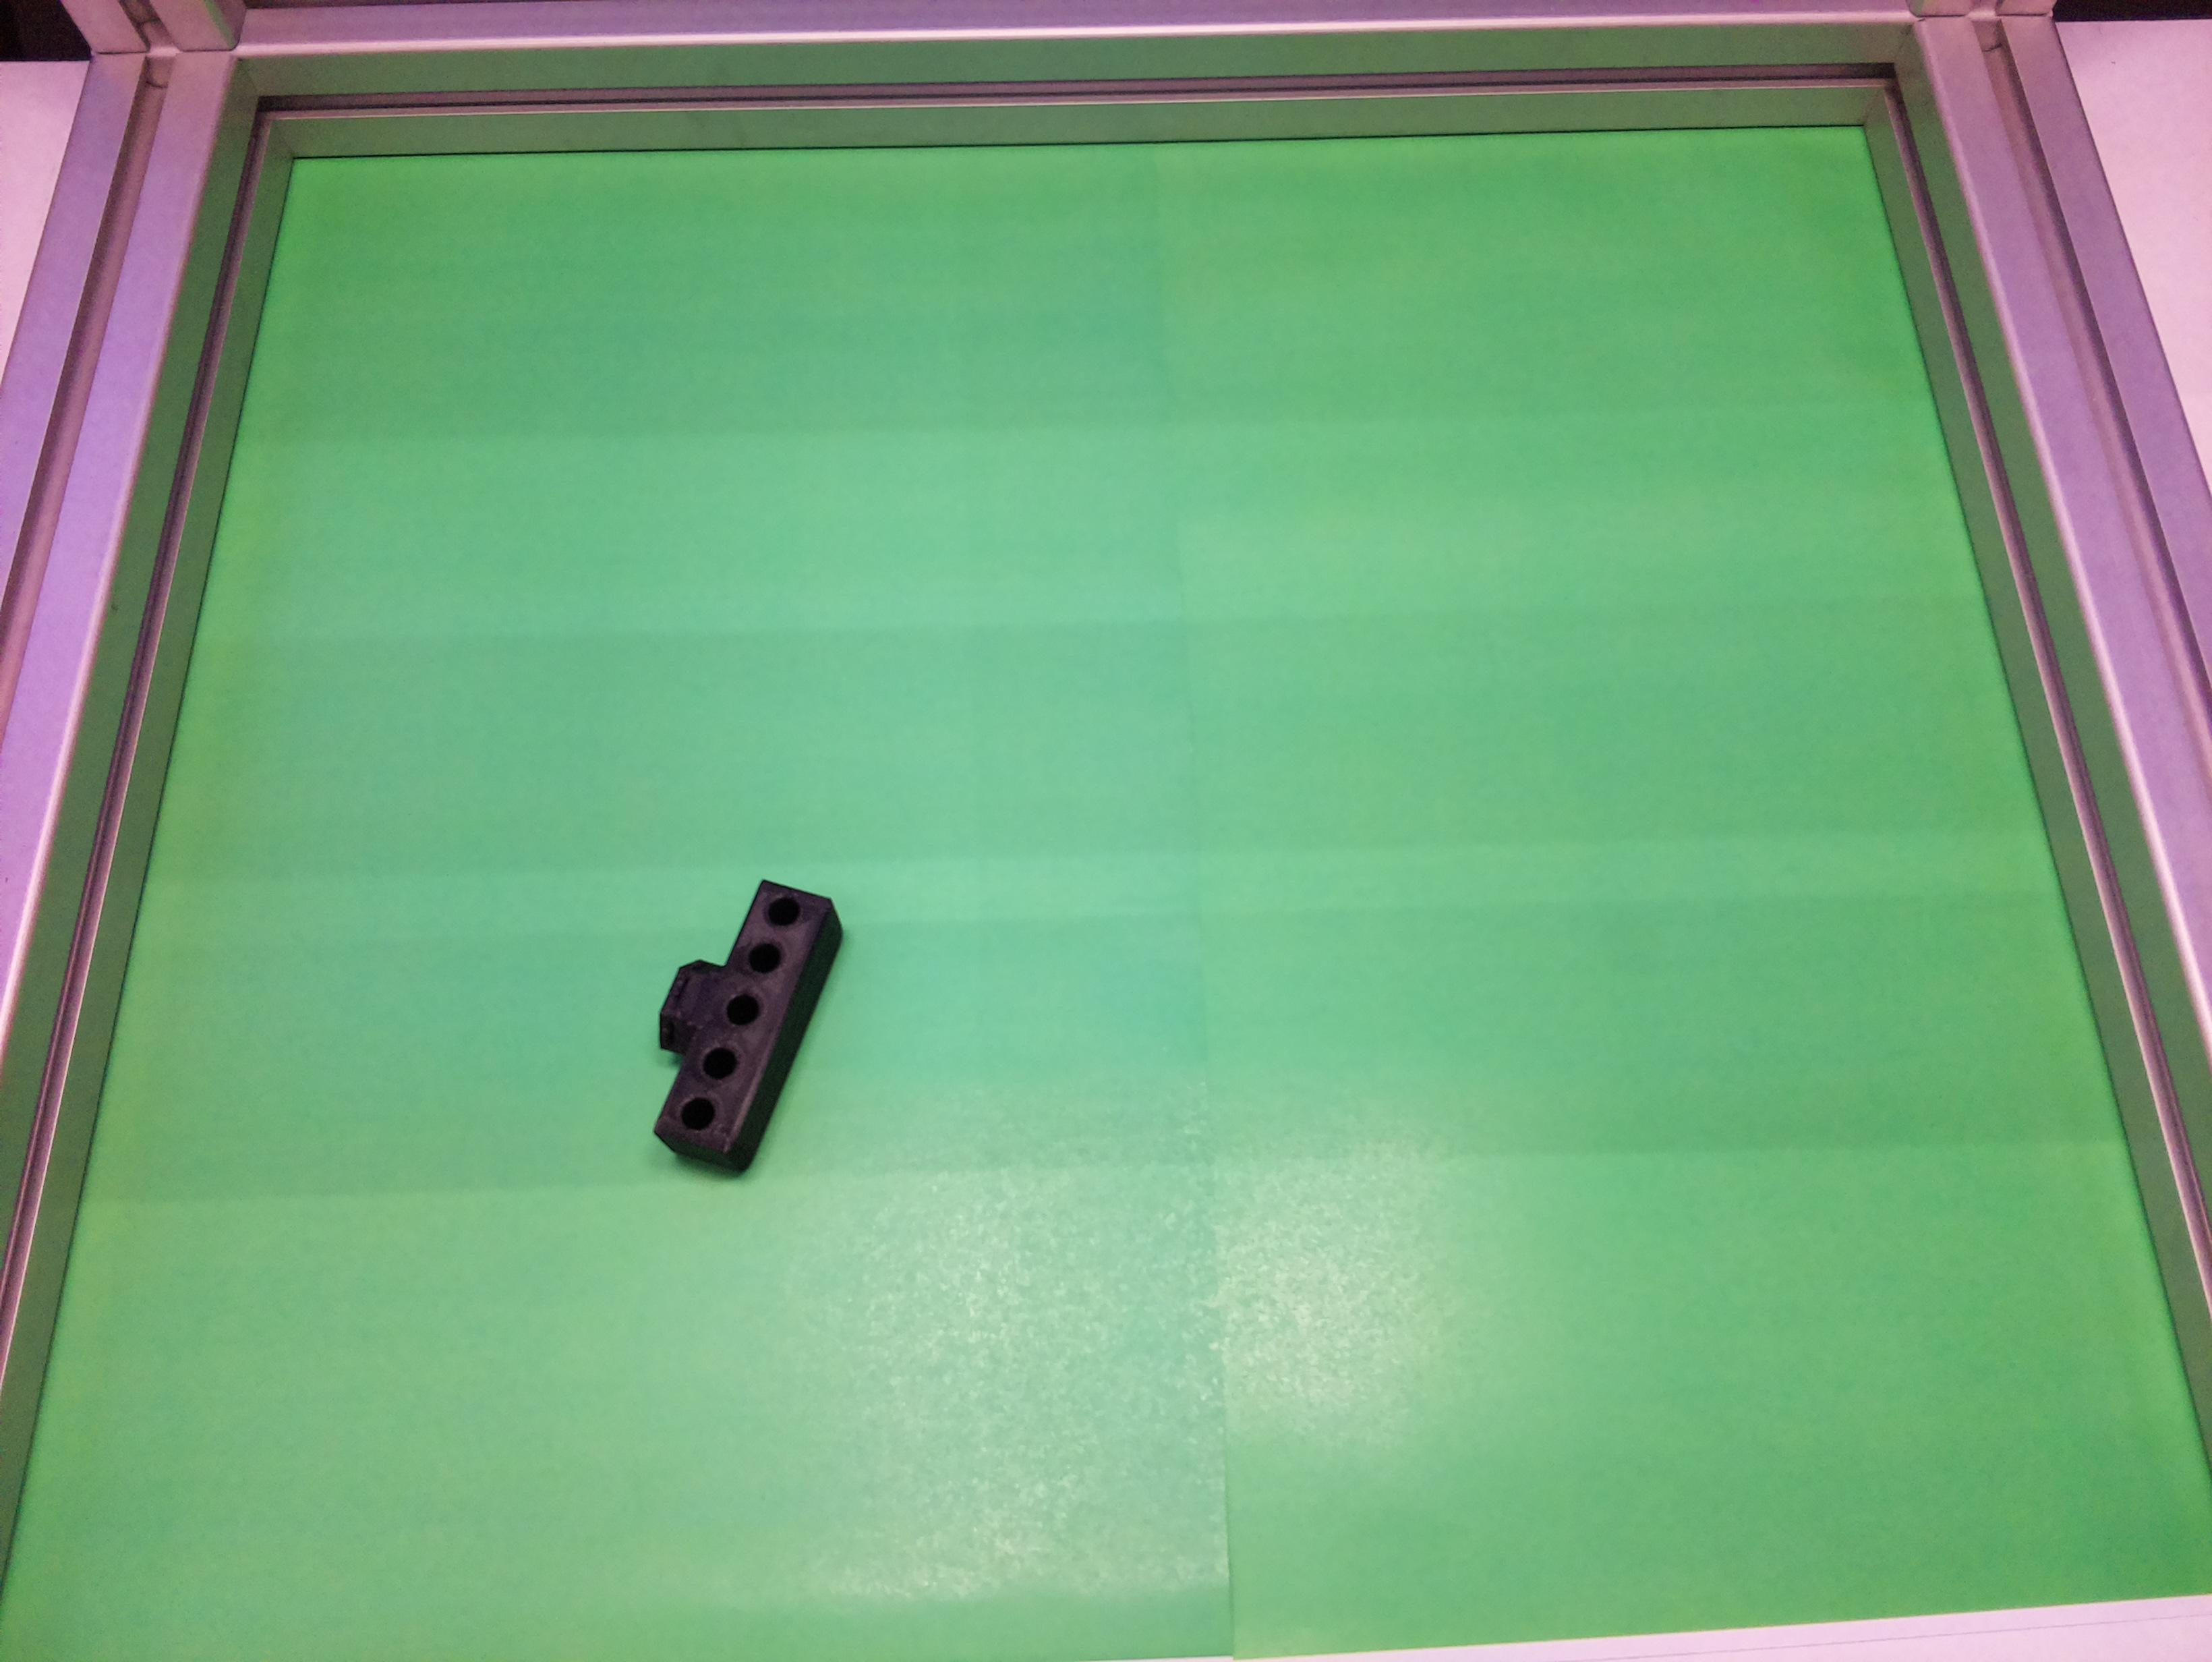bit_holder: (615, 855, 855, 1182)
